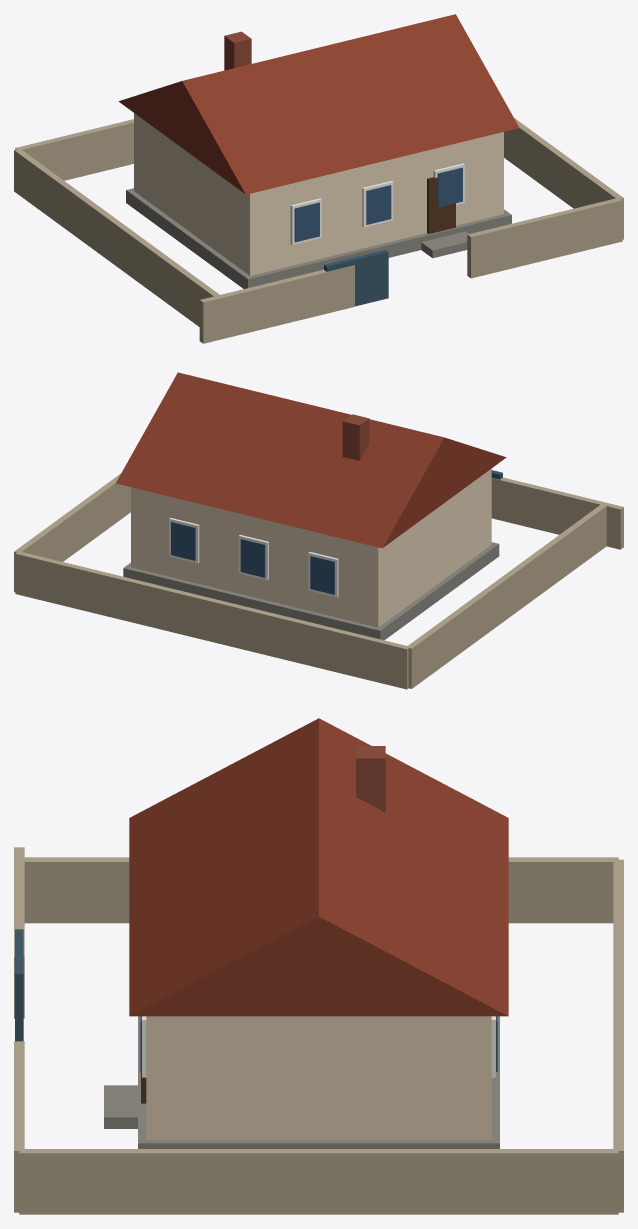
File: house0.glb
3 renders of one model, top to bottom at view 1: azimuth 30°, elevation 25°; view 2: azimuth 150°, elevation 25°; view 3: azimuth 270°, elevation 25°, orthographic. The views are drawn at different scales.
Visible parts, largest first — view 1: House; view 2: House; view 3: House.
Boxes of the visible parts, x1=… form: House: x1=14, y1=14, x2=623, y2=343; House: x1=14, y1=372, x2=623, y2=689; House: x1=14, y1=718, x2=623, y2=1214.
Bounding box in the file's own units: 17.11 × 7 × 14.41.
